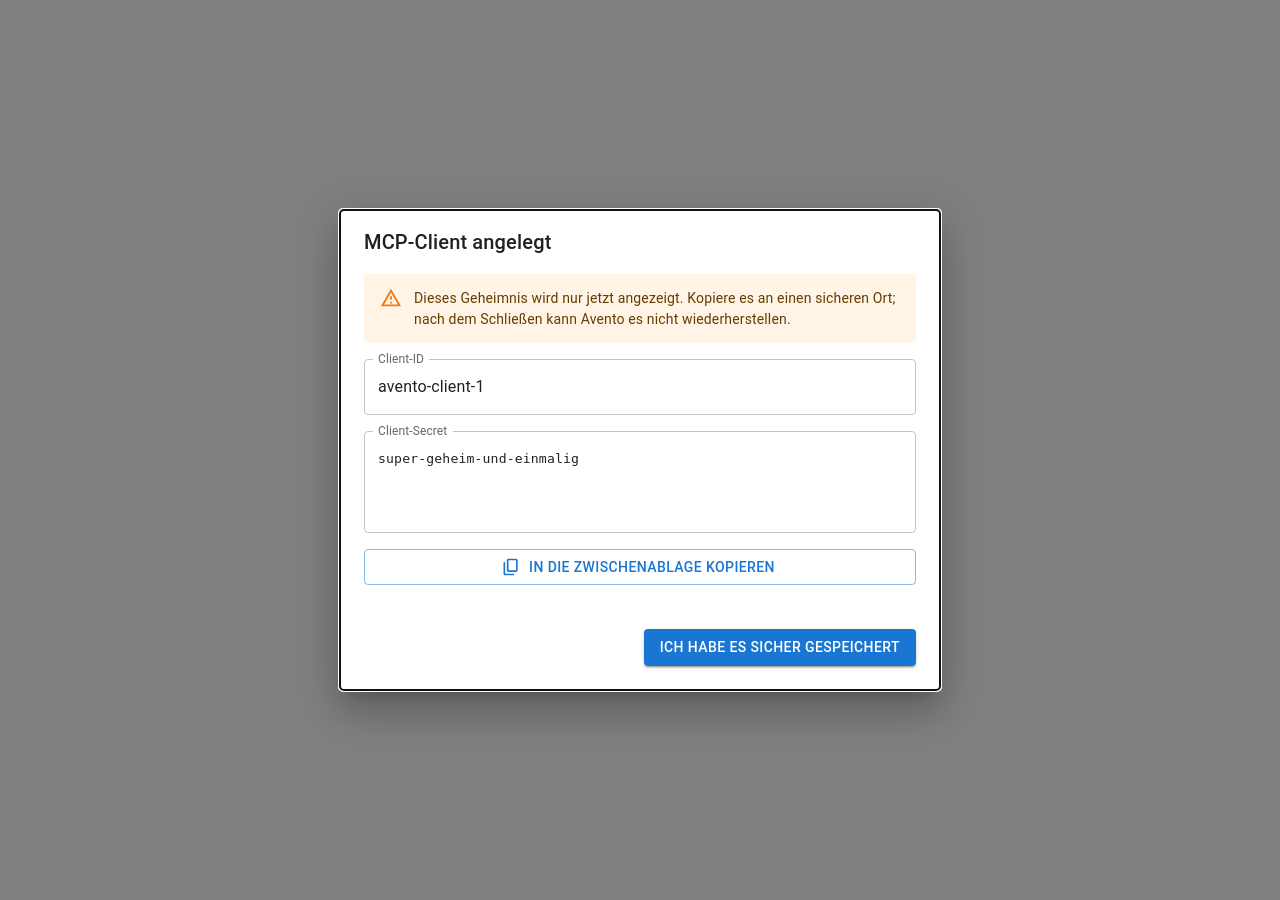
OneTimeSecretDialog › meldet eine Kopieraktion zugänglich, ohne das Geheimnis zu persistieren
Click the button "In die Zwischenablage kopieren". click: (640, 567)
box: 364,548 -> 916,585
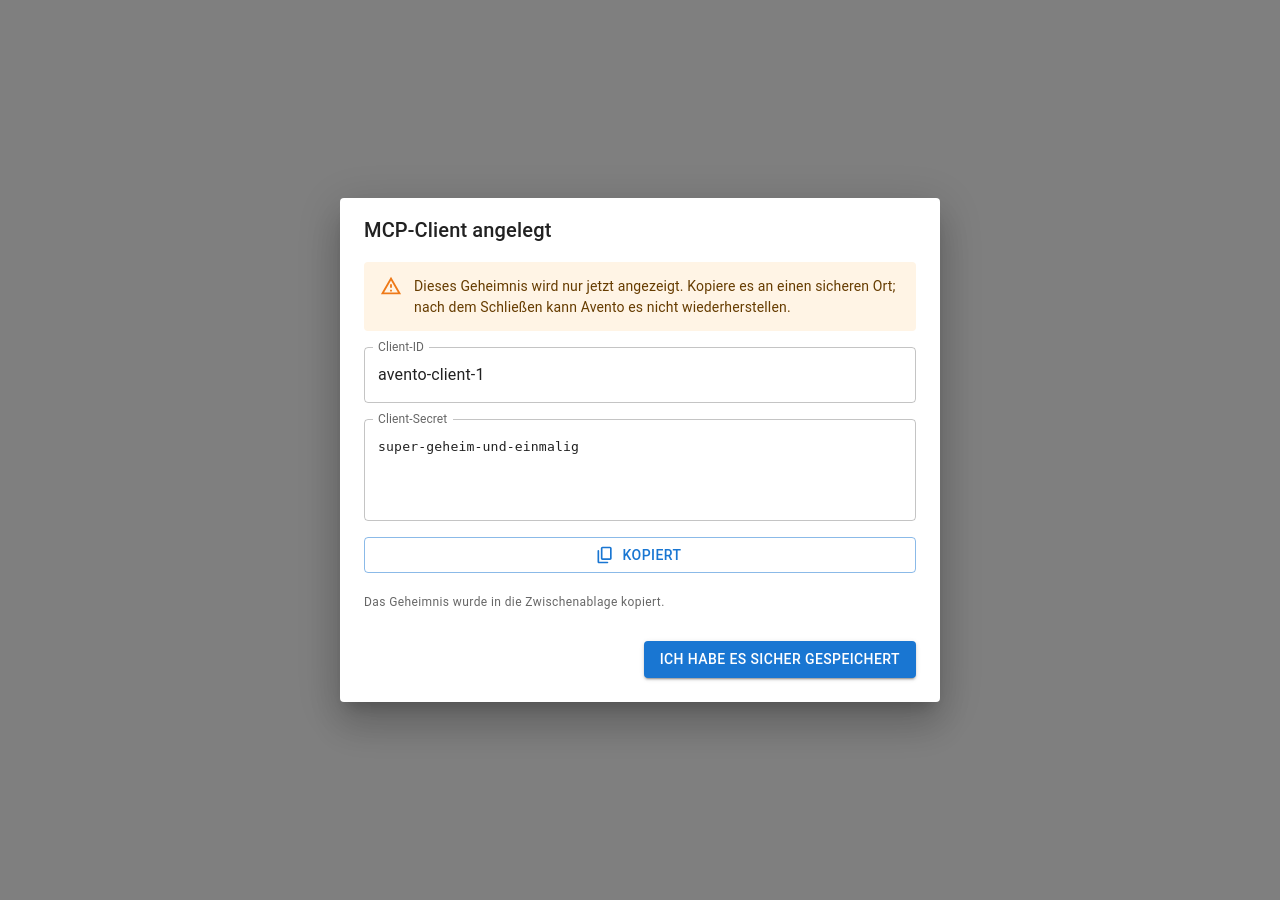
expect the message "Das Geheimnis wurde in die Zwischenablage kopiert." is shown: met, box 364,595 -> 665,609
